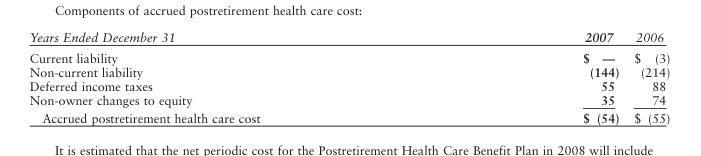table: (28, 28, 669, 124)
table column: (28, 28, 420, 124), (420, 28, 625, 124), (625, 28, 669, 124)
table column header: (28, 28, 669, 47)
table row: (28, 28, 669, 47), (28, 47, 669, 64), (28, 92, 669, 108), (28, 108, 669, 124), (28, 64, 669, 78), (28, 78, 669, 92)
